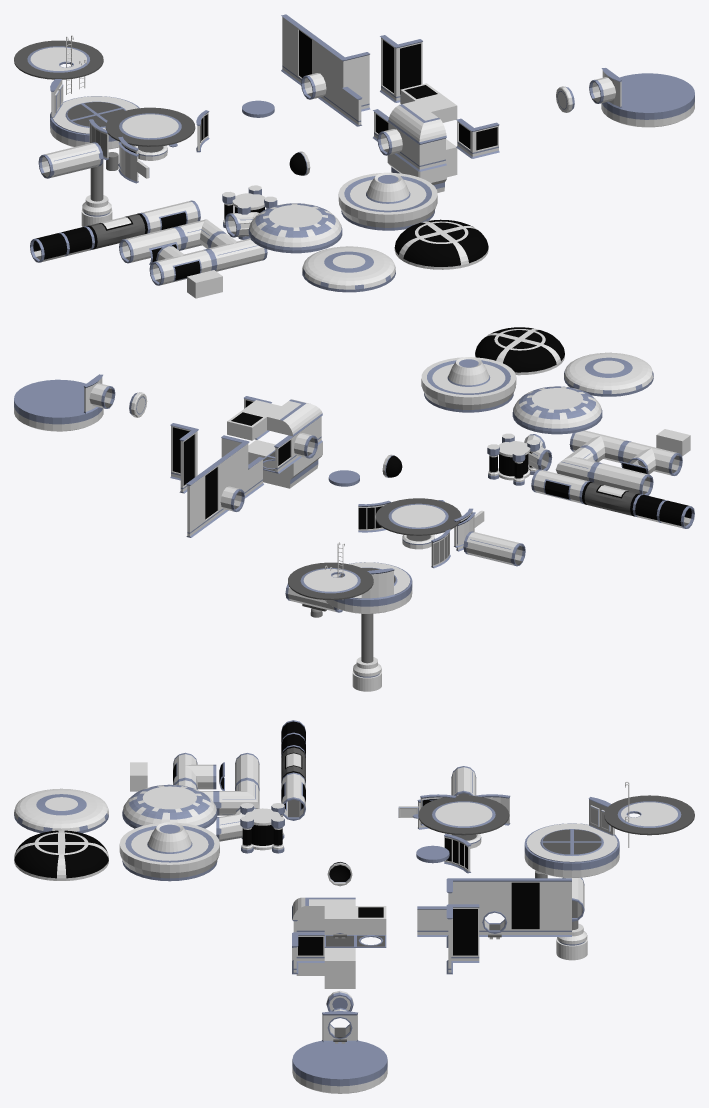
Rendered from Sea Base.fbx.
The picture shows the model from 3 angles, top to bottom: view 1: azimuth 30°, elevation 25°; view 2: azimuth 150°, elevation 25°; view 3: azimuth 270°, elevation 25°; orthographic projection. The views are drawn at different scales.
Parts seen in each view (by area): view 1: Roof 3, Bottom 1, Roof 2, Roof 4, Roof 1, Floor 1, Floor 3, Wall 2 Corner Window (Tall), Wall 2 Corner (Tall), Floor 2, Hallway T Joint Window, Hallway Observatory (+28 smaller); view 2: Roof 3, Bottom 1, Roof 2, Roof 1, Roof 4, Floor 1, Floor 3, Wall 2 Corner Window (Tall), Hallway 1, Hallway Observatory, Hallway T Joint Window, Hallway Plain (+25 smaller); view 3: Roof 3, Bottom 1, Roof 4, Roof 1, Roof 2, Floor 1, Floor 3, Floor 2, Wall 2 Corner Window (Tall), Wall 2 Window (Tall), Wall 2 (Tall), Doorway 2 (Tall) (+22 smaller).
Boxes of the visible parts, x1=… form: Roof 3: x1=338, y1=172, x2=437, y2=230; Bottom 1: x1=601, y1=73, x2=694, y2=127; Roof 2: x1=248, y1=203, x2=342, y2=253; Roof 4: x1=394, y1=219, x2=488, y2=269; Roof 1: x1=302, y1=246, x2=395, y2=292; Floor 1: x1=105, y1=107, x2=195, y2=146; Floor 3: x1=14, y1=40, x2=103, y2=79; Wall 2 Corner Window (Tall): x1=380, y1=35, x2=422, y2=102; Wall 2 Corner (Tall): x1=327, y1=48, x2=370, y2=115; Floor 2: x1=52, y1=96, x2=138, y2=134; Hallway T Joint Window: x1=149, y1=245, x2=214, y2=285; Hallway Observatory: x1=30, y1=226, x2=94, y2=262; Roof 3: x1=421, y1=357, x2=516, y2=412; Bottom 1: x1=14, y1=379, x2=103, y2=431; Roof 2: x1=512, y1=386, x2=602, y2=434; Roof 1: x1=564, y1=352, x2=653, y2=396; Roof 4: x1=475, y1=327, x2=564, y2=375; Floor 1: x1=375, y1=498, x2=461, y2=535; Floor 3: x1=288, y1=562, x2=373, y2=599; Wall 2 Corner Window (Tall): x1=170, y1=423, x2=198, y2=493; Hallway 1: x1=463, y1=531, x2=525, y2=566; Hallway Observatory: x1=632, y1=494, x2=694, y2=528; Hallway T Joint Window: x1=620, y1=441, x2=682, y2=475; Hallway Plain: x1=591, y1=462, x2=653, y2=495; Roof 3: x1=119, y1=822, x2=219, y2=881; Bottom 1: x1=292, y1=1040, x2=387, y2=1093; Roof 4: x1=14, y1=830, x2=108, y2=880; Roof 1: x1=14, y1=788, x2=108, y2=833; Roof 2: x1=122, y1=784, x2=217, y2=828; Floor 1: x1=418, y1=795, x2=509, y2=835; Floor 3: x1=604, y1=795, x2=694, y2=835; Floor 2: x1=526, y1=823, x2=617, y2=862; Wall 2 Corner Window (Tall): x1=446, y1=904, x2=479, y2=974; Wall 2 Window (Tall): x1=510, y1=878, x2=541, y2=936; Wall 2 (Tall): x1=541, y1=878, x2=571, y2=936; Doorway 2 (Tall): x1=479, y1=878, x2=510, y2=939.
Bounding box in the file's own units: 5108 × 1223 × 4401.
